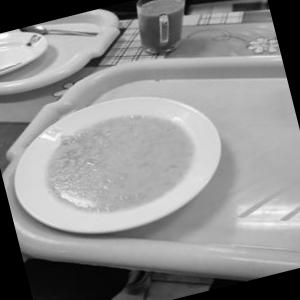coffee: (120, 0, 204, 70)
porridge: (18, 78, 226, 252)
